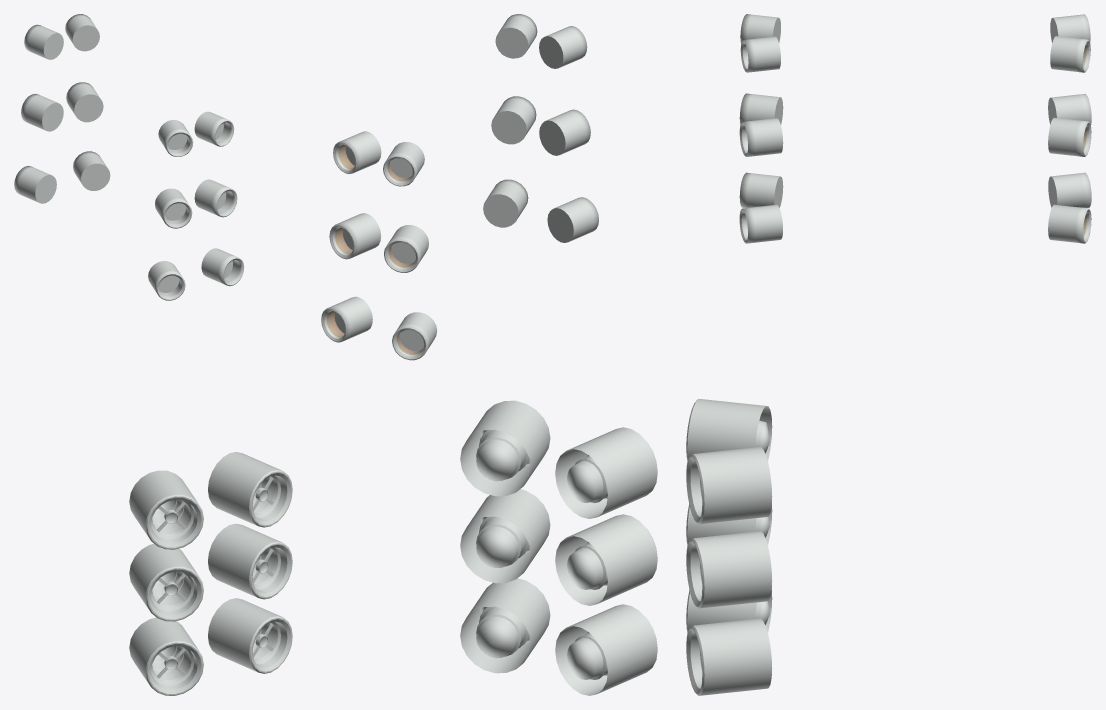
3 views of the same model, side by side, from view 1: azimuth 30°, elevation 25°; view 2: azimuth 150°, elevation 25°; view 3: azimuth 270°, elevation 25° (orthographic). The views are drawn at different scales.
Visible parts, largest first — view 1: G:\FFXIV-MapTools\exports\x6t1\bg\ex5\01_xkt_x6\twn\x6t1\bgp (×3); view 2: G:\FFXIV-MapTools\exports\x6t1\bg\ex5\01_xkt_x6\twn\x6t1\bgp (×4); view 3: G:\FFXIV-MapTools\exports\x6t1\bg\ex5\01_xkt_x6\twn\x6t1\bgp (×2).
Boxes of the visible parts, <box> form: G:\FFXIV-MapTools\exports\x6t1\bg\ex5\01_xkt_x6\twn\x6t1\bgp (×3): <box>14,14,292,695</box>; G:\FFXIV-MapTools\exports\x6t1\bg\ex5\01_xkt_x6\twn\x6t1\bgp (×4): <box>321,14,657,695</box>; G:\FFXIV-MapTools\exports\x6t1\bg\ex5\01_xkt_x6\twn\x6t1\bgp (×2): <box>686,14,1091,695</box>.
Bounding box in the file's own units: 116 × 408 × 236.
